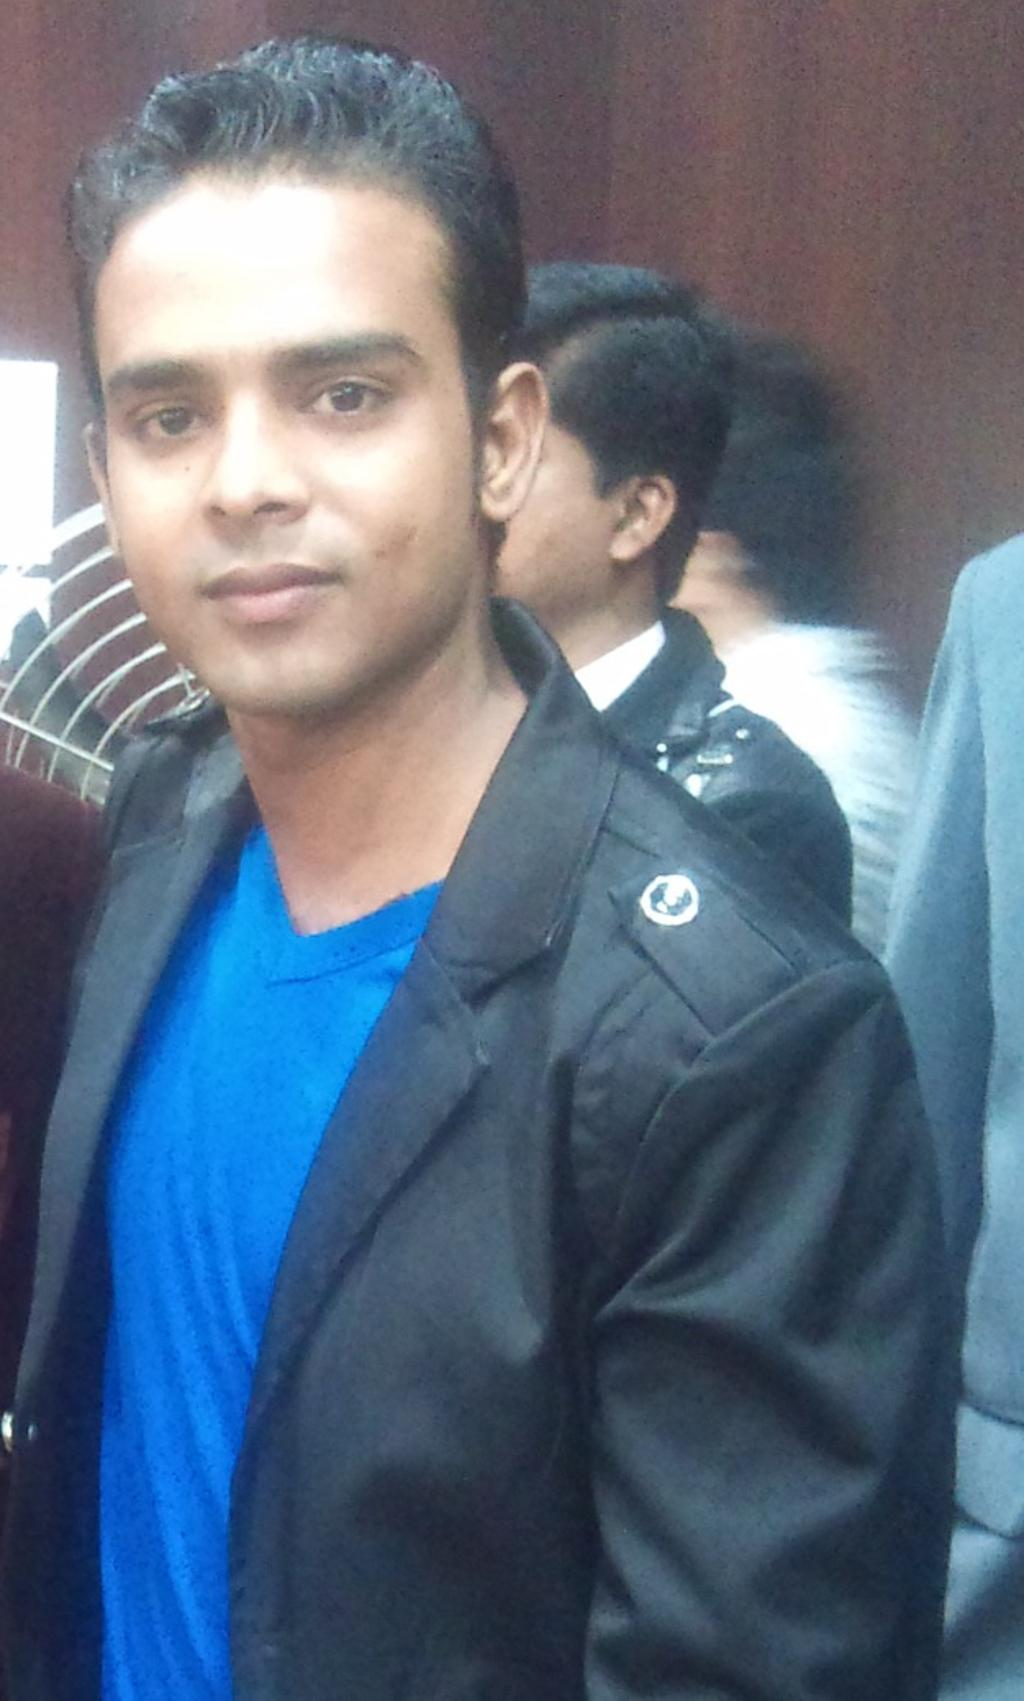face: (90, 183, 479, 715)
